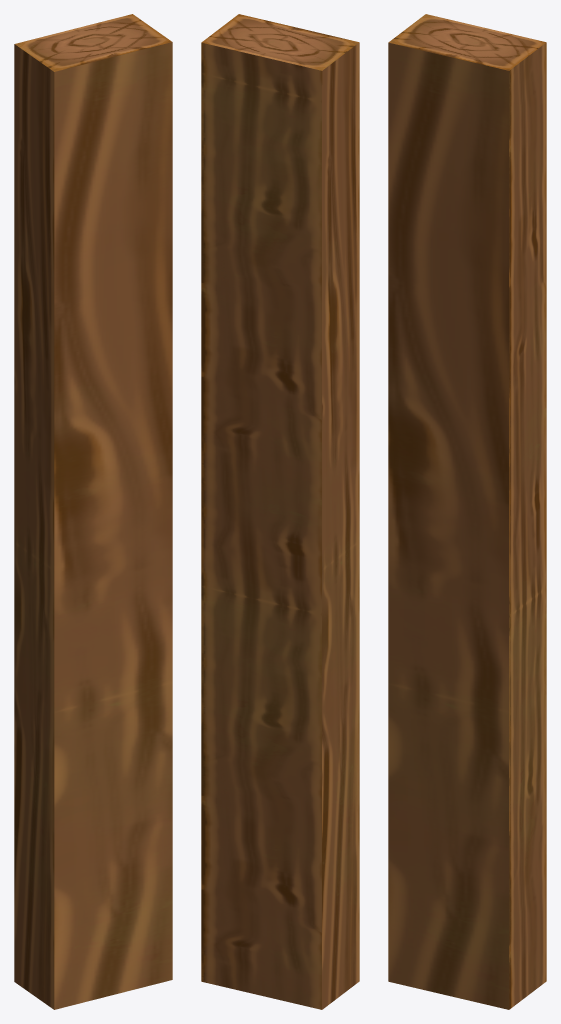
3 renders of one model, left to right at view 1: azimuth 30°, elevation 25°; view 2: azimuth 150°, elevation 25°; view 3: azimuth 330°, elevation 25°, orthographic.
Visible parts, largest first — view 1: Cube.1448; view 2: Cube.1448; view 3: Cube.1448.
Part boxes in pixels (box(x1,y1,x2,y2)): Cube.1448: box(14, 14, 172, 1009); Cube.1448: box(201, 14, 359, 1009); Cube.1448: box(388, 14, 546, 1009).
Bounding box in the file's own units: 125 × 928 × 71.46.
1 material, 1 textured.
